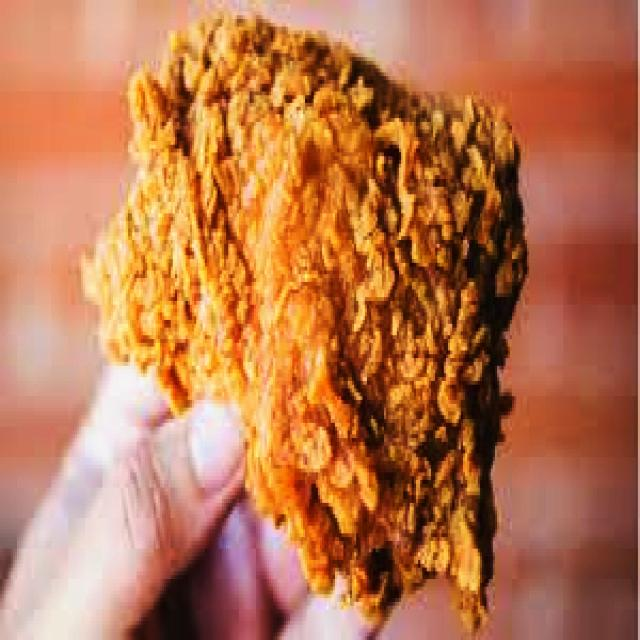fried_chicken: (77, 0, 531, 640)
